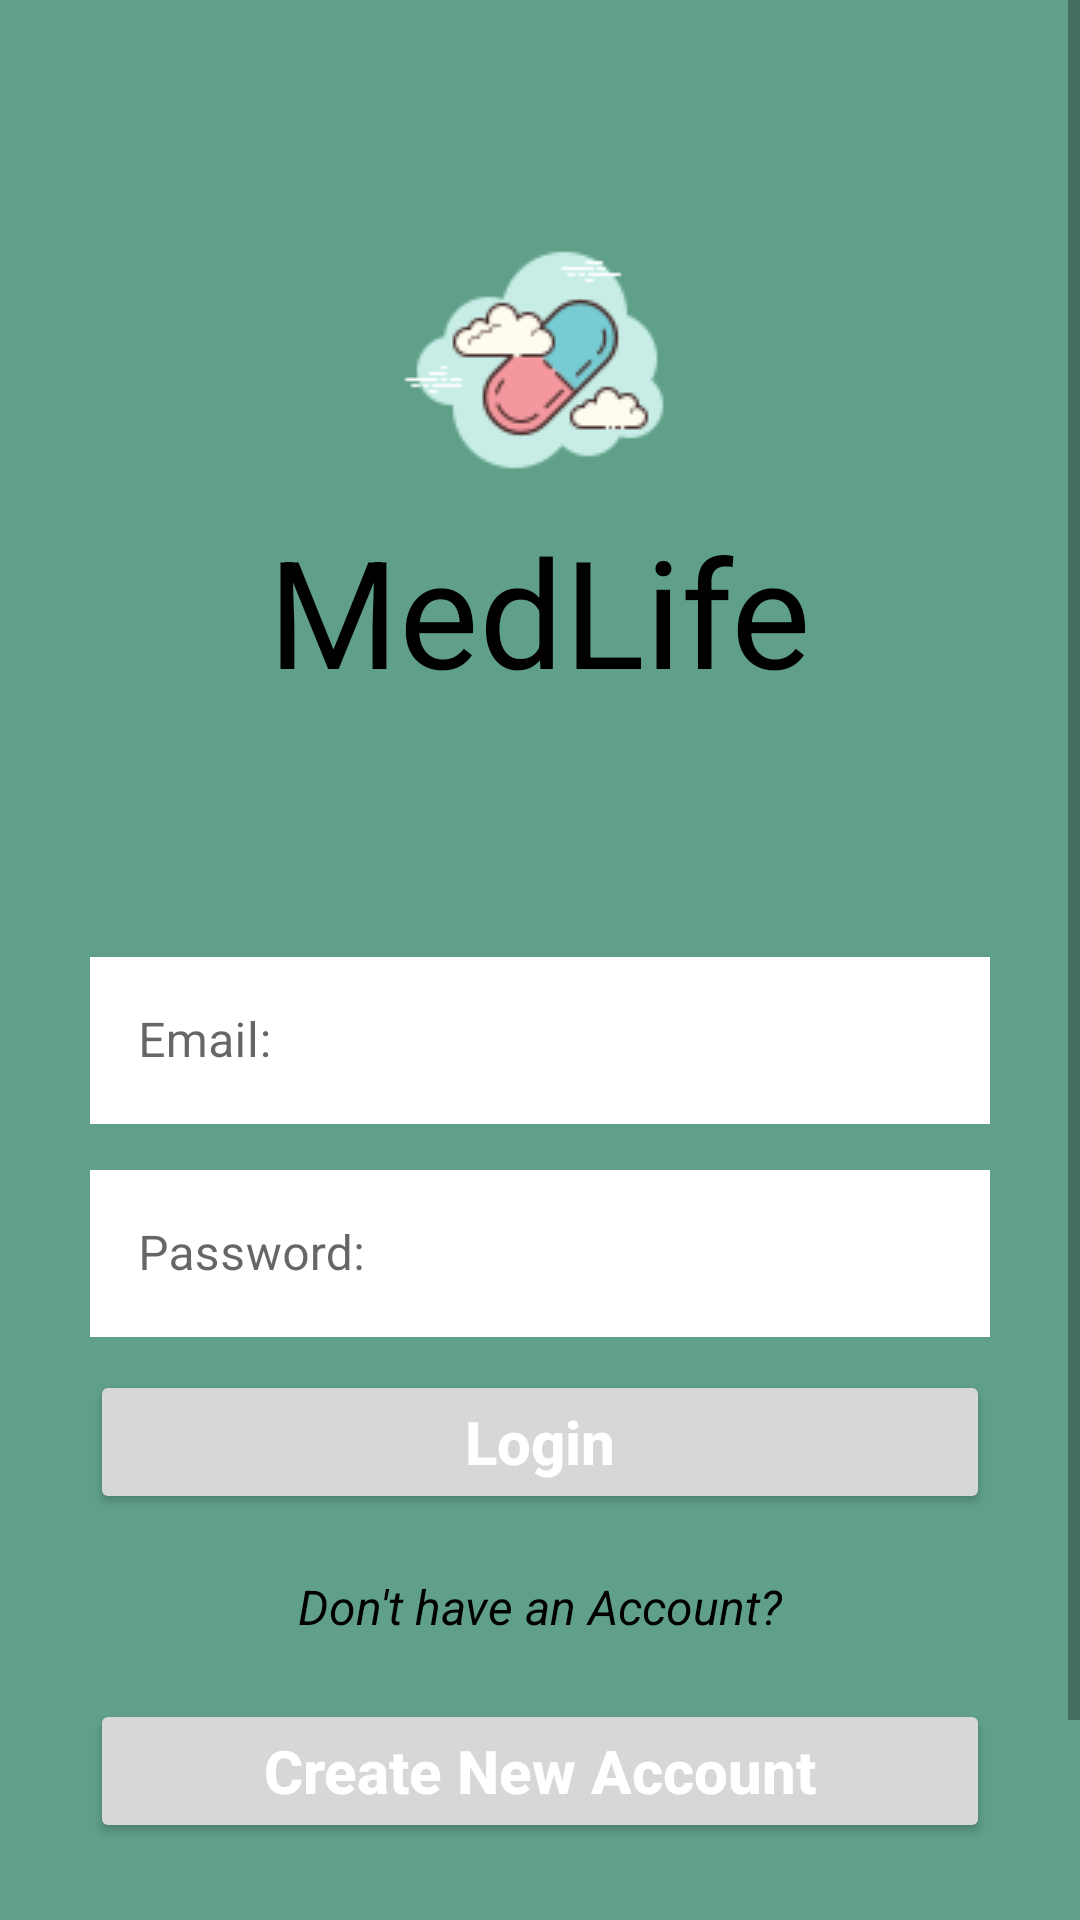

Named icons in this screenshot (1080 x 1920) and their bounding boxes, (x1,y1,x2,y2):
pill: (404,251,664,469)
